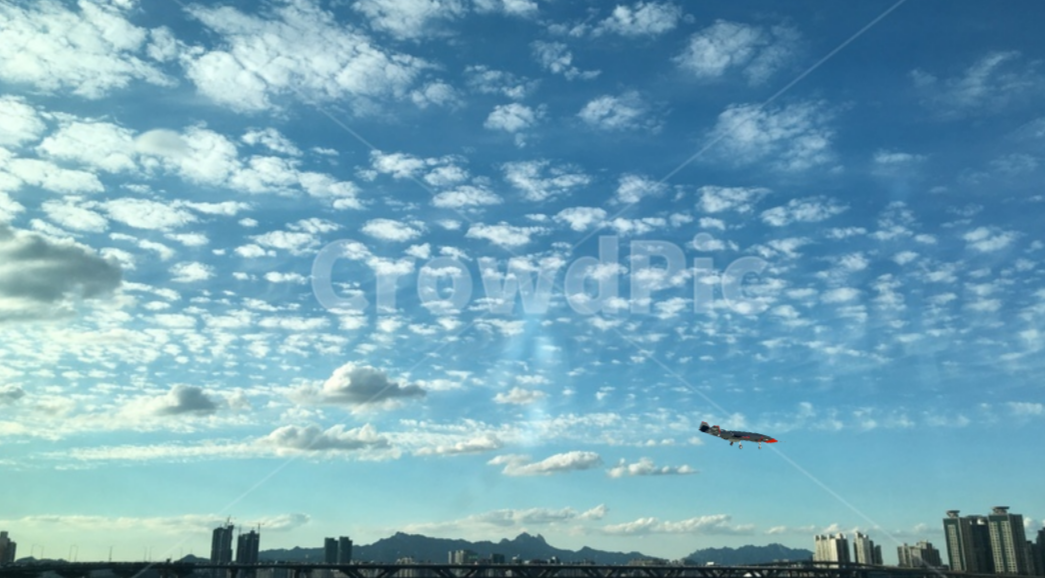military drone: (697, 420, 777, 450)
